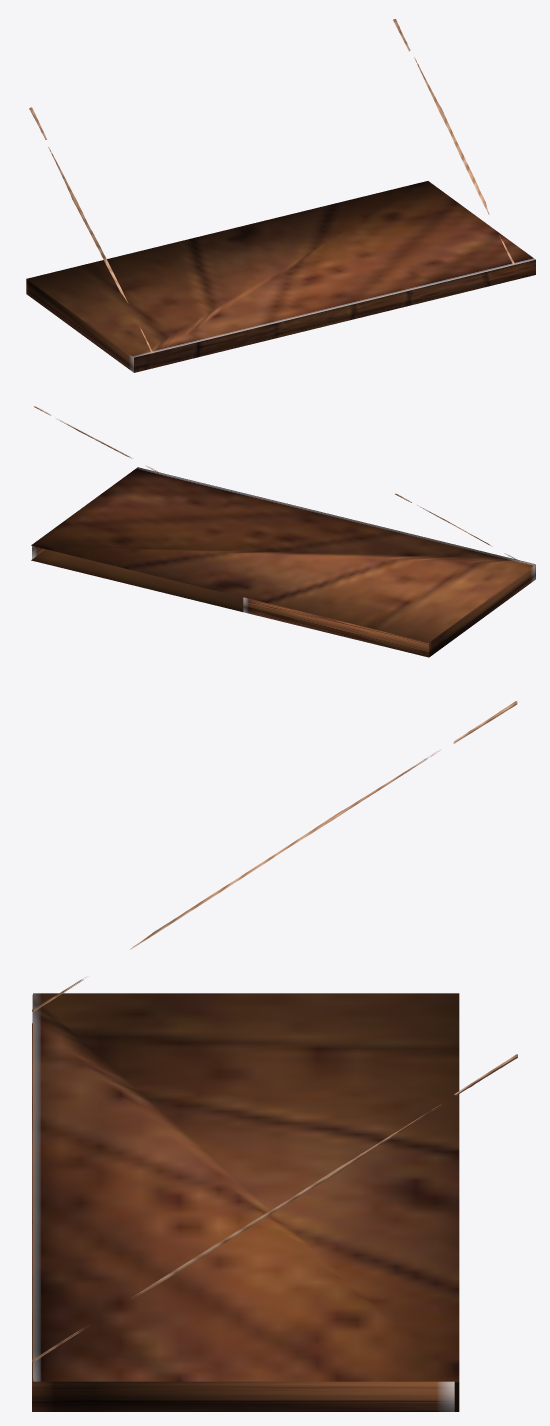
Rendered from Table.fbx.
3 views of the same model, one above another, from view 1: azimuth 30°, elevation 25°; view 2: azimuth 150°, elevation 25°; view 3: azimuth 270°, elevation 25° (orthographic). The views are drawn at different scales.
Parts seen in each view (by area): view 1: Table; view 2: Table; view 3: Table.
Boxes of the visible parts, box(x1,y1,x2,y2) form: Table: box(26, 19, 535, 372); Table: box(31, 406, 535, 657); Table: box(32, 701, 517, 1411).
Size of the model in its own units: 628 by 254 by 330.
